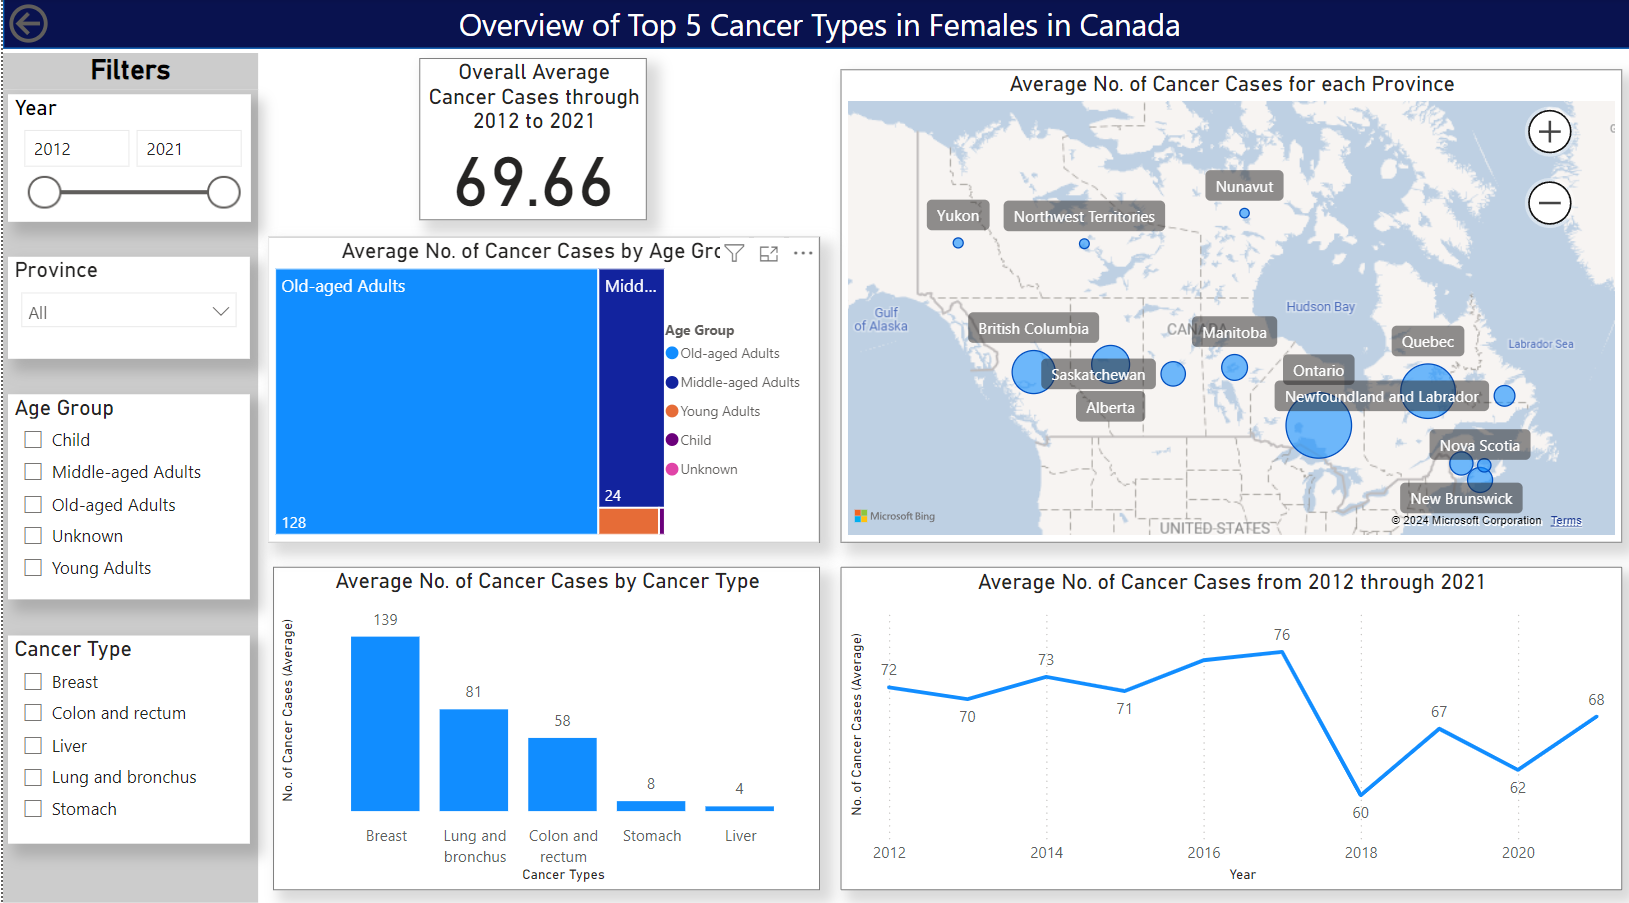

This screenshot's page, from the dashboard's own definition file:
{"tool":"powerbi","page":{"name":"Page 1","canvas":[1280,720],"ordinal":0},"visuals":[{"type":"shape","box":[0,0,1280.3,39.8],"z":0},{"type":"actionButton","box":[0,0,100,40],"z":1000},{"type":"card","title":"Overall Average Cancer Cases through 2012 to 2021","fields":{"Values":["Avg(filtered_new.VALUE)"]},"box":[326.2,47.5,178.8,127.5],"z":2000},{"type":"lineChart","title":"Average No. of Cancer Cases from 2012 through 2021","fields":{"Category":["filtered_new.DATE"],"Y":["Avg(filtered_new.VALUE)"]},"box":[656.2,446.2,612.5,253.8],"z":3000},{"type":"columnChart","title":"Average No. of Cancer Cases by Cancer Type","fields":{"Category":["filtered_new.Cancer_type"],"Y":["Avg(filtered_new.VALUE)"]},"box":[211.2,446.2,428.8,253.8],"z":4000},{"type":"shape","title":"Filters","box":[0,43,200,666.3],"z":5000},{"type":"slicer","title":"Year","fields":{"Values":["filtered_new.DATE"]},"box":[4.1,75,190,100],"z":6000},{"type":"slicer","title":"Age Group","fields":{"Values":["filtered_new.Age_group"]},"box":[4.1,310.9,189.9,161.2],"z":7000},{"type":"slicer","title":"Cancer Type","fields":{"Values":["filtered_new.Cancer_type"]},"box":[4.1,500,189.9,163.2],"z":8000},{"type":"map","title":"Average No. of Cancer Cases for each Province","fields":{"Size":["Avg(filtered_new.VALUE)"],"Category":["filtered_new.GEO"]},"box":[656.2,56.2,612.5,371.2],"z":9000},{"type":"slicer","title":"Province","fields":{"Values":["filtered_new.GEO"]},"box":[4.3,202.9,189.5,80.2],"z":10000},{"type":"treemap","title":"Average No. of Cancer Cases by Age Group","fields":{"Group":["filtered_new.Age_group"],"Values":["Avg(filtered_new.VALUE)"]},"box":[207.5,187.5,432.5,240],"z":11000}]}

Visuals, with their boxes in screenshot pixels (x1, y1, x2, y2), scaled from the page's 1280x720 canvas onto the 1629x903 screenshot:
shape: (0, 0, 1628, 50)
actionButton: (0, 0, 127, 50)
"Overall Average Cancer Cases through 2012 to 2021" card: (415, 60, 643, 219)
"Average No. of Cancer Cases from 2012 through 2021" lineChart: (835, 560, 1615, 878)
"Average No. of Cancer Cases by Cancer Type" columnChart: (269, 560, 814, 878)
"Filters" shape: (0, 54, 255, 890)
"Year" slicer: (5, 94, 247, 219)
"Age Group" slicer: (5, 390, 247, 592)
"Cancer Type" slicer: (5, 627, 247, 832)
"Average No. of Cancer Cases for each Province" map: (835, 70, 1615, 536)
"Province" slicer: (5, 254, 247, 355)
"Average No. of Cancer Cases by Age Group" treemap: (264, 235, 814, 536)
